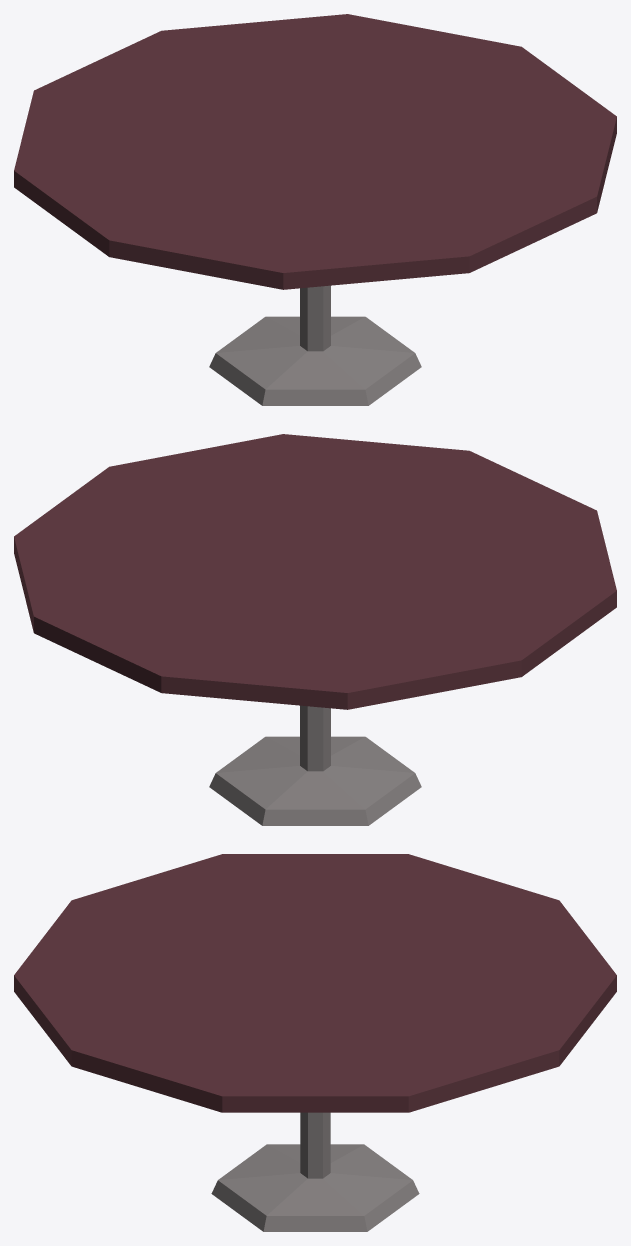
Rendered from furniture-table-dining-circle.glb.
3 renders of one model, top to bottom at view 1: azimuth 30°, elevation 25°; view 2: azimuth 150°, elevation 25°; view 3: azimuth 270°, elevation 25°, orthographic. The views are drawn at different scales.
Parts seen in each view (by area): view 1: table-dining-circle; view 2: table-dining-circle; view 3: table-dining-circle.
Part boxes in pixels (x1,y1,x2,y2): table-dining-circle: (14,14,616,405); table-dining-circle: (14,434,616,825); table-dining-circle: (14,854,616,1231).
Bounding box in the file's own units: 1.9 × 0.8 × 2.
